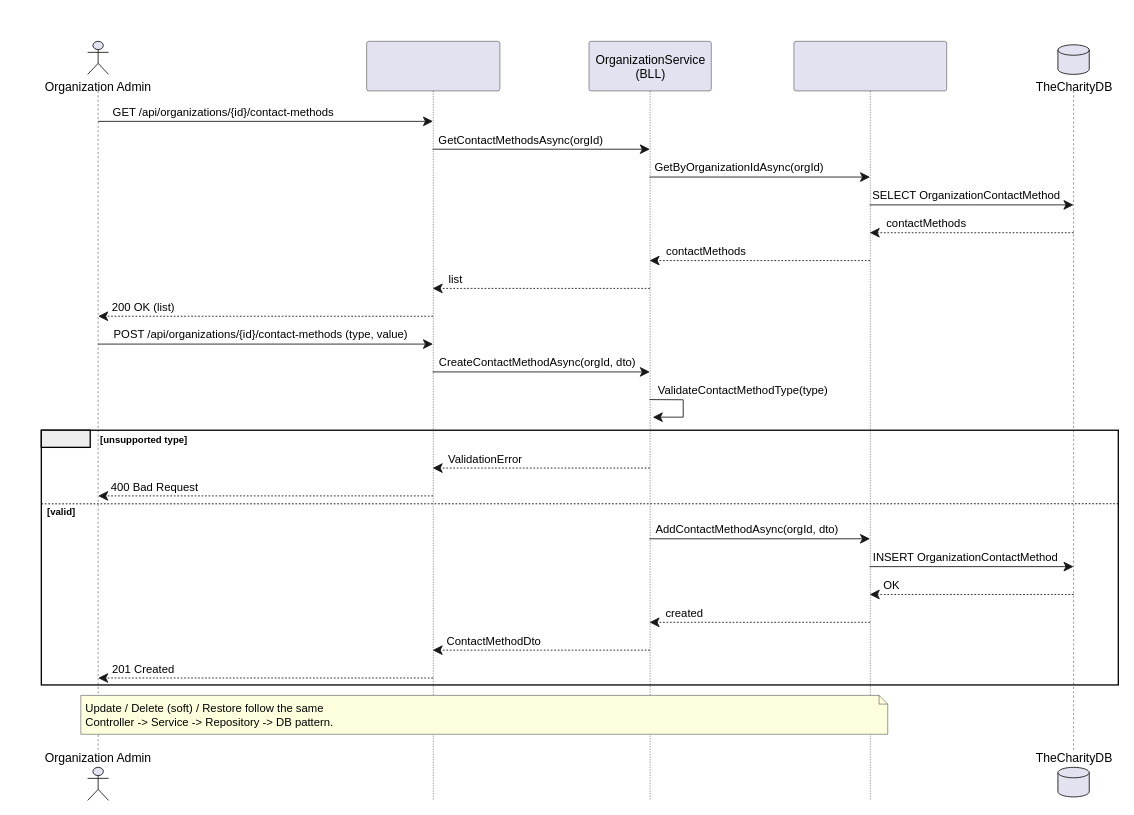
Image size: 1134x815. Some labels were removed from this diagram. The box of each missing label's shape, as (x1, y1, x2, y2) in pixels:
alt: (40, 429, 90, 448)
ContactMethodRepository (DAL): (793, 41, 947, 800)
OrganizationController (PL): (366, 41, 500, 800)
